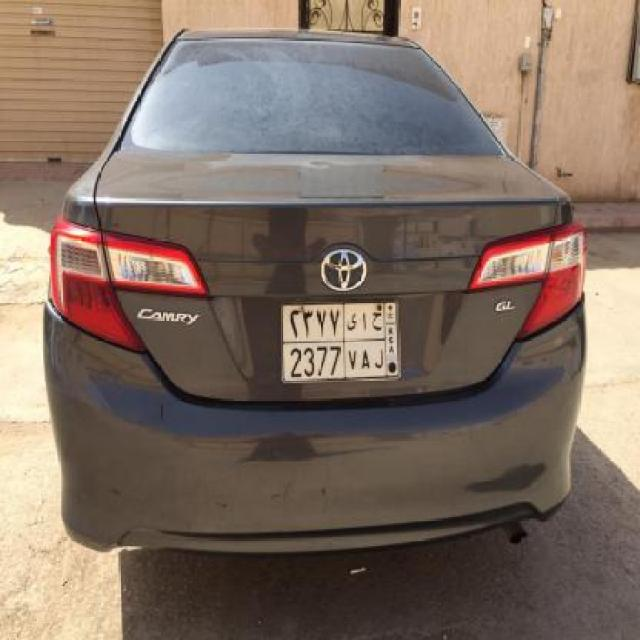license_plate: (279, 297, 403, 386)
